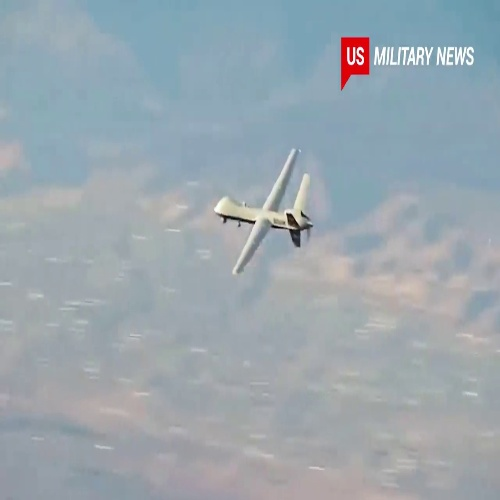uav: (214, 144, 315, 279)
